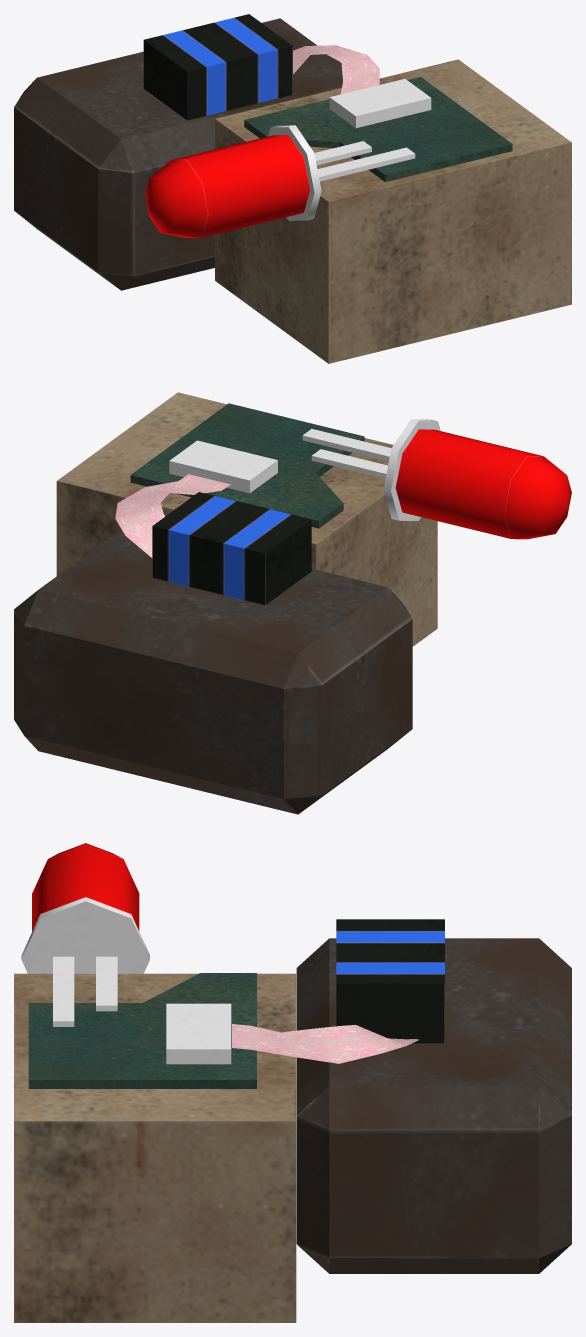
Rendered from Mdl.IEDMine.fbx.
The picture shows the model from 3 angles, top to bottom: view 1: azimuth 30°, elevation 25°; view 2: azimuth 150°, elevation 25°; view 3: azimuth 270°, elevation 25°; orthographic projection. The views are drawn at different scales.
Visible parts, largest first — view 1: Mesh.IEDMine; view 2: Mesh.IEDMine; view 3: Mesh.IEDMine.
Boxes of the visible parts, x1,y1,x2,y2 form: Mesh.IEDMine: (14,14,571,363); Mesh.IEDMine: (14,392,571,814); Mesh.IEDMine: (14,843,571,1322).
Size of the model in its own units: 0.3431 by 0.1818 by 0.3386.
